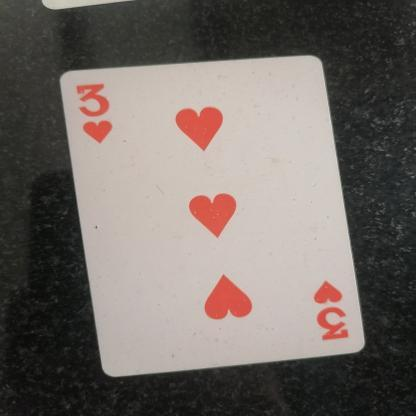3H: (294, 262, 374, 358), (74, 80, 134, 158)
